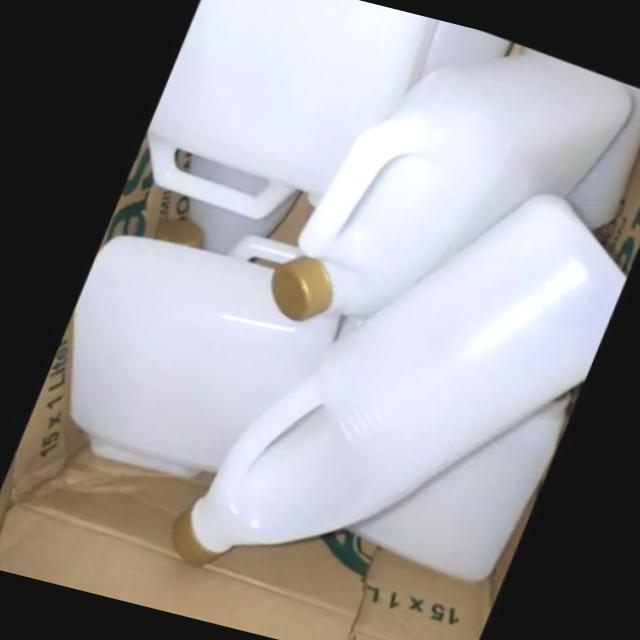chai_nhua: (170, 185, 622, 562)
hop_nhua: (265, 41, 625, 317), (63, 231, 341, 475), (138, 0, 427, 216)
